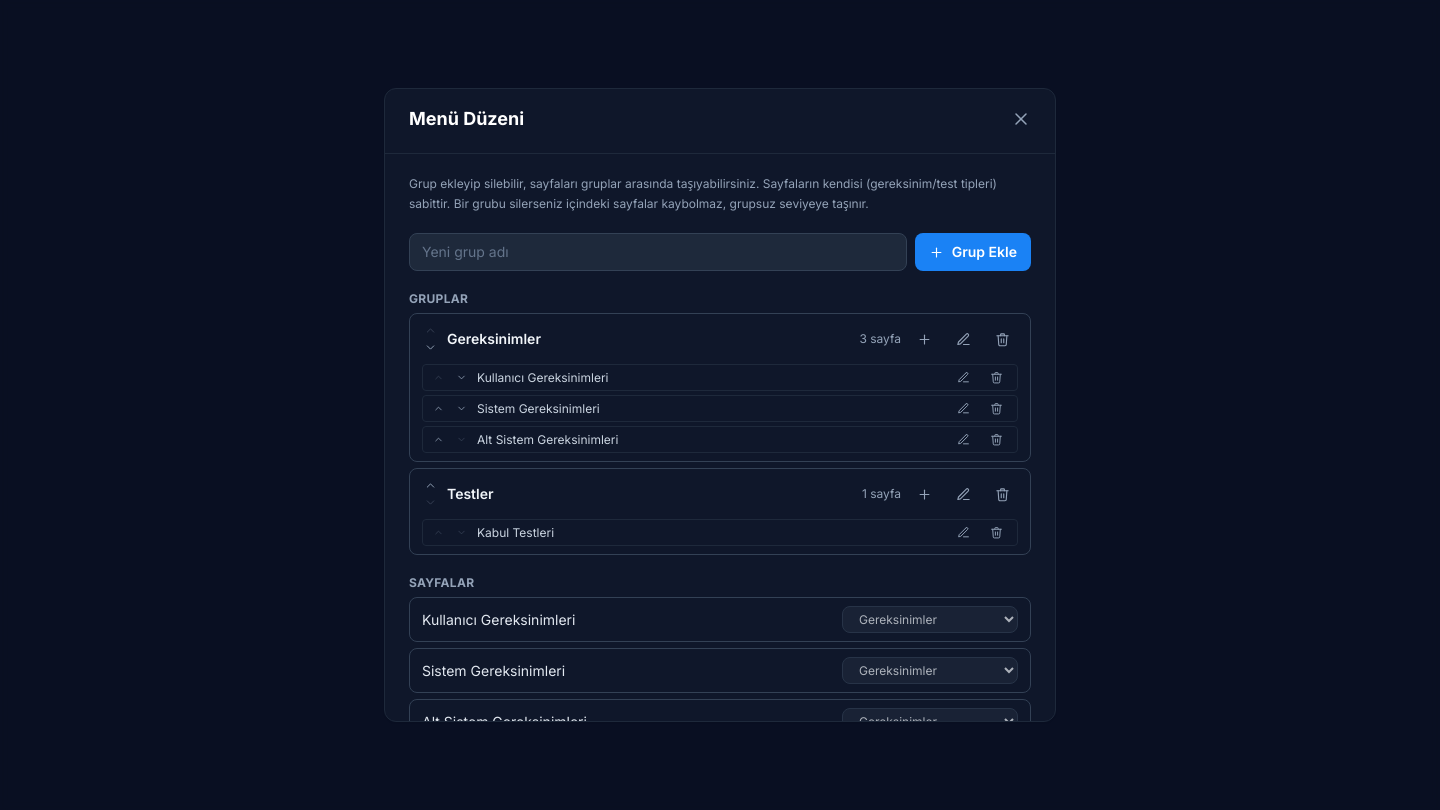
Test case: NavManager — grup yeniden adlandirma / silme › kalem dugmesi SATIR ICI input acar (window.prompt kullanmaz)
This screenshot has width=1440, height=810.
Click the button named "Gereksinimler Yeniden adlandır".
click(964, 339)  # box [948,324,979,354]
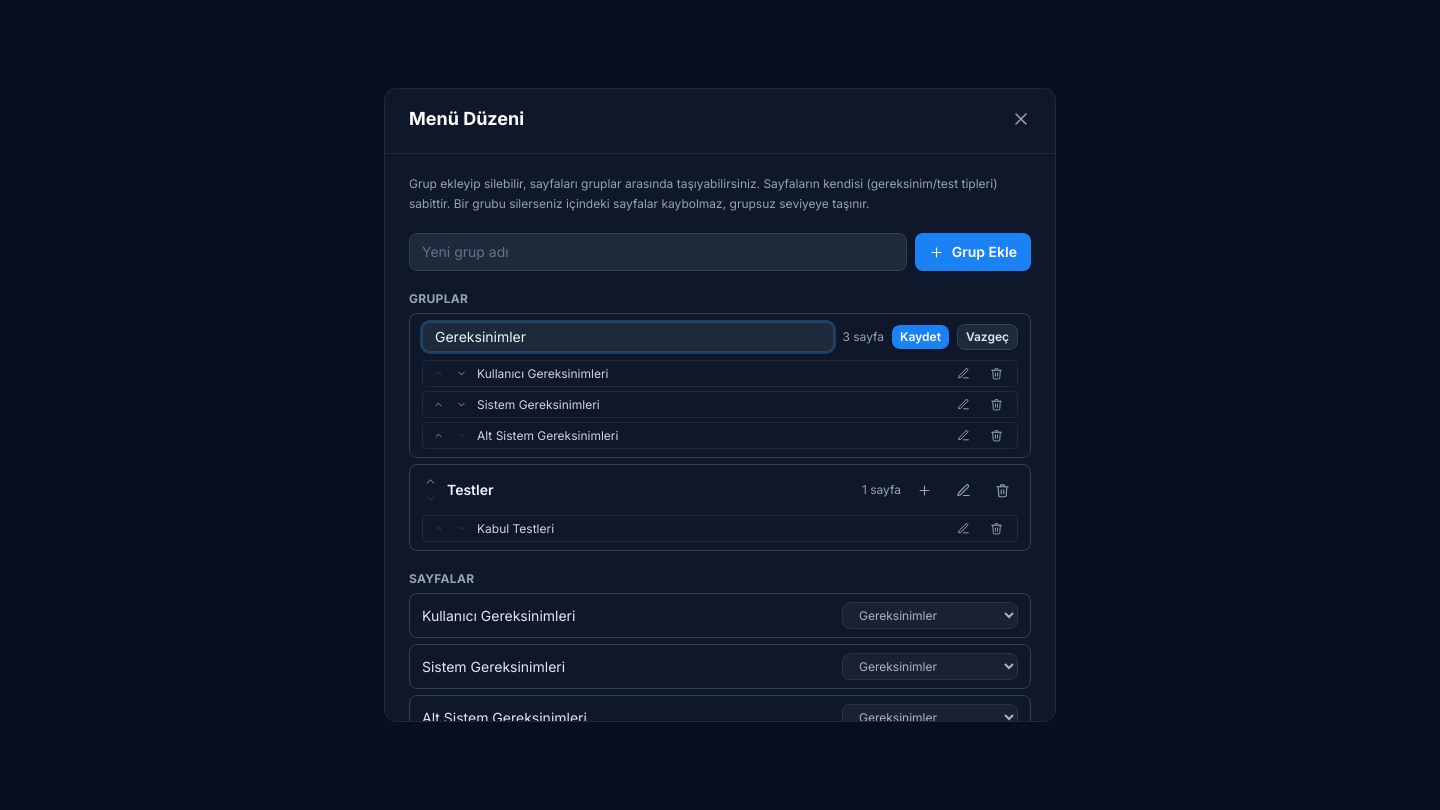
Check: the field with test id "nav-group-rename-input" holds "Gereksinimler", box [422,322,834,352]
